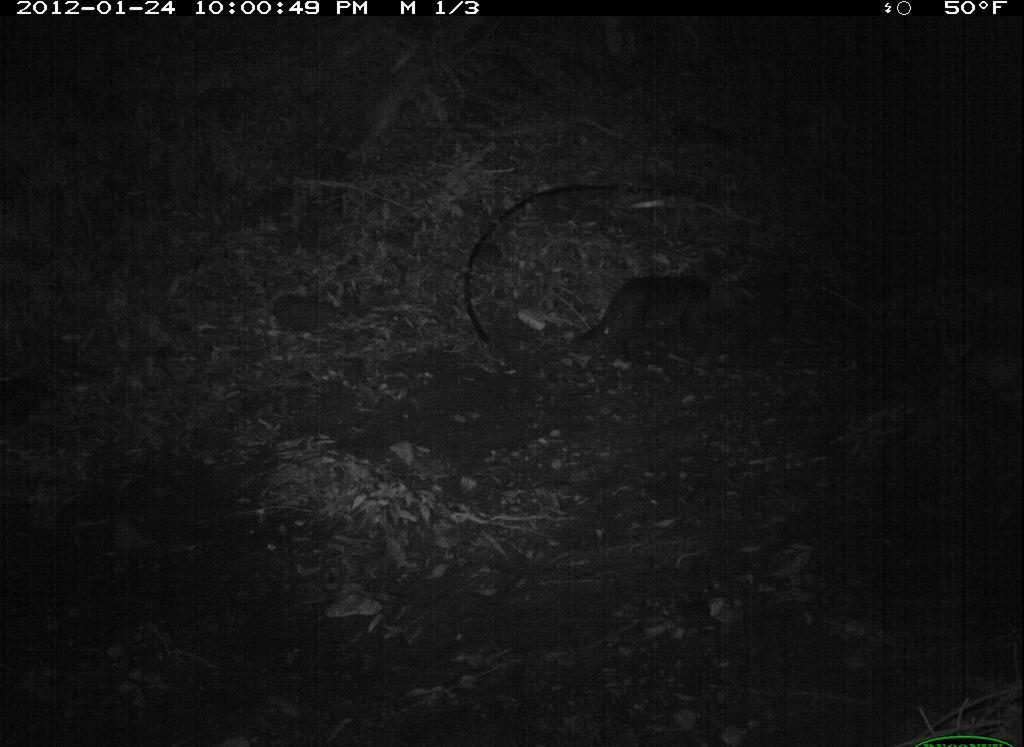opossum: (578, 267, 731, 365)
